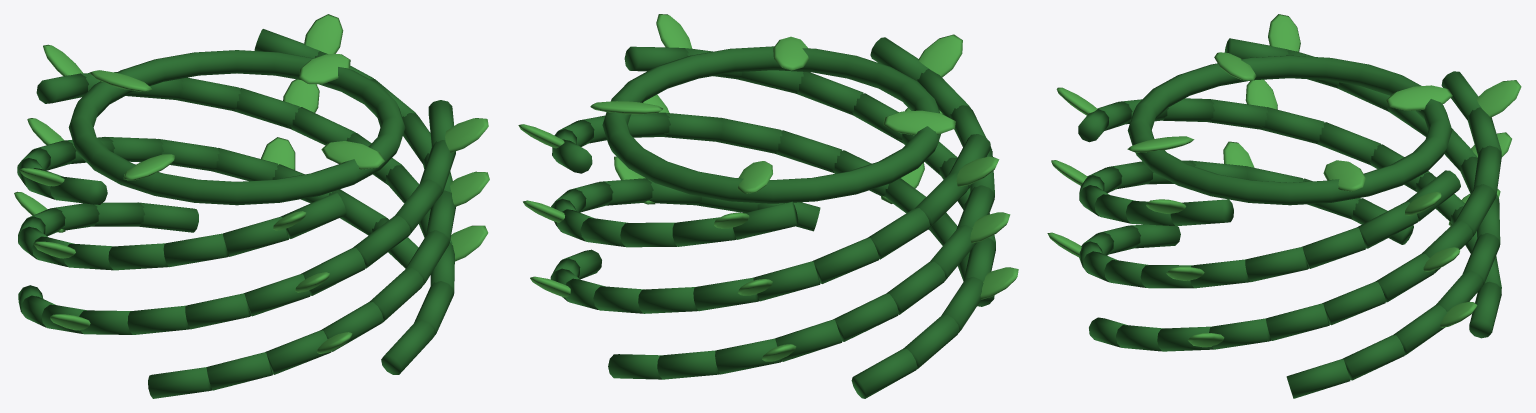
The model's file is Vines.fbx.
3 renders of one model, left to right at view 1: azimuth 30°, elevation 25°; view 2: azimuth 150°, elevation 25°; view 3: azimuth 270°, elevation 25°, orthographic. The views are drawn at different scales.
Visible parts, largest first — view 1: Vine_Crown0, Vine_Vine37, Vine_Vine29, Vine_Vine21, Vine_Vine55, Vine_Vine36, Vine_Vine48, Vine_Vine30, Vine_Vine38, Vine_Vine22, Vine_Vine28, Vine_Vine56 (+53 smaller); view 2: Vine_Crown0, Vine_Vine24, Vine_Vine8, Vine_Vine16, Vine_Vine40, Vine_Vine32, Vine_Vine9, Vine_Vine41, Vine_Vine59, Vine_Vine17, Vine_Vine13, Vine_Vine15 (+50 smaller); view 3: Vine_Crown0, Vine_Vine53, Vine_Vine1, Vine_Vine45, Vine_Vine0, Vine_Vine52, Vine_Vine44, Vine_Vine17, Vine_Vine18, Vine_Vine46, Vine_Vine35, Vine_Vine54 (+55 smaller).
Part boxes in pixels (<box>): Vine_Crown0: <box>68,50,405,205</box>; Vine_Vine37: <box>206,352,272,390</box>; Vine_Vine29: <box>185,293,251,329</box>; Vine_Vine21: <box>163,233,229,267</box>; Vine_Vine55: <box>234,88,299,129</box>; Vine_Vine36: <box>148,367,211,398</box>; Vine_Vine48: <box>381,319,434,374</box>; Vine_Vine30: <box>244,274,310,316</box>; Vine_Vine38: <box>265,330,331,374</box>; Vine_Vine22: <box>223,217,288,256</box>; Vine_Vine28: <box>127,305,189,334</box>; Vine_Vine56: <box>176,77,240,111</box>; Vine_Crown0: <box>602,46,940,203</box>; Vine_Vine24: <box>851,348,917,398</box>; Vine_Vine8: <box>812,238,878,283</box>; Vine_Vine16: <box>833,293,898,341</box>; Vine_Vine40: <box>776,130,841,172</box>; Vine_Vine32: <box>797,72,863,115</box>; Vine_Vine9: <box>867,208,930,259</box>; Vine_Vine41: <box>718,117,782,153</box>; Vine_Vine59: <box>733,201,798,239</box>; Vine_Vine17: <box>886,261,945,314</box>; Vine_Vine13: <box>657,350,719,379</box>; Vine_Vine15: <box>775,319,841,361</box>; Vine_Crown0: <box>1127,55,1452,205</box>; Vine_Vine53: <box>1322,282,1385,325</box>; Vine_Vine1: <box>1342,335,1404,380</box>; Vine_Vine45: <box>1302,227,1365,268</box>; Vine_Vine0: <box>1286,359,1350,398</box>; Vine_Vine52: <box>1266,303,1329,340</box>; Vine_Vine44: <box>1245,247,1308,282</box>; Vine_Vine17: <box>1317,122,1380,165</box>; Vine_Vine18: <box>1261,107,1324,144</box>; Vine_Vine46: <box>1356,202,1418,248</box>; Vine_Vine35: <box>1170,199,1233,226</box>; Vine_Vine54: <box>1375,254,1435,302</box>.
Bounding box in the file's own units: 2.34 × 2.37 × 1.09.
